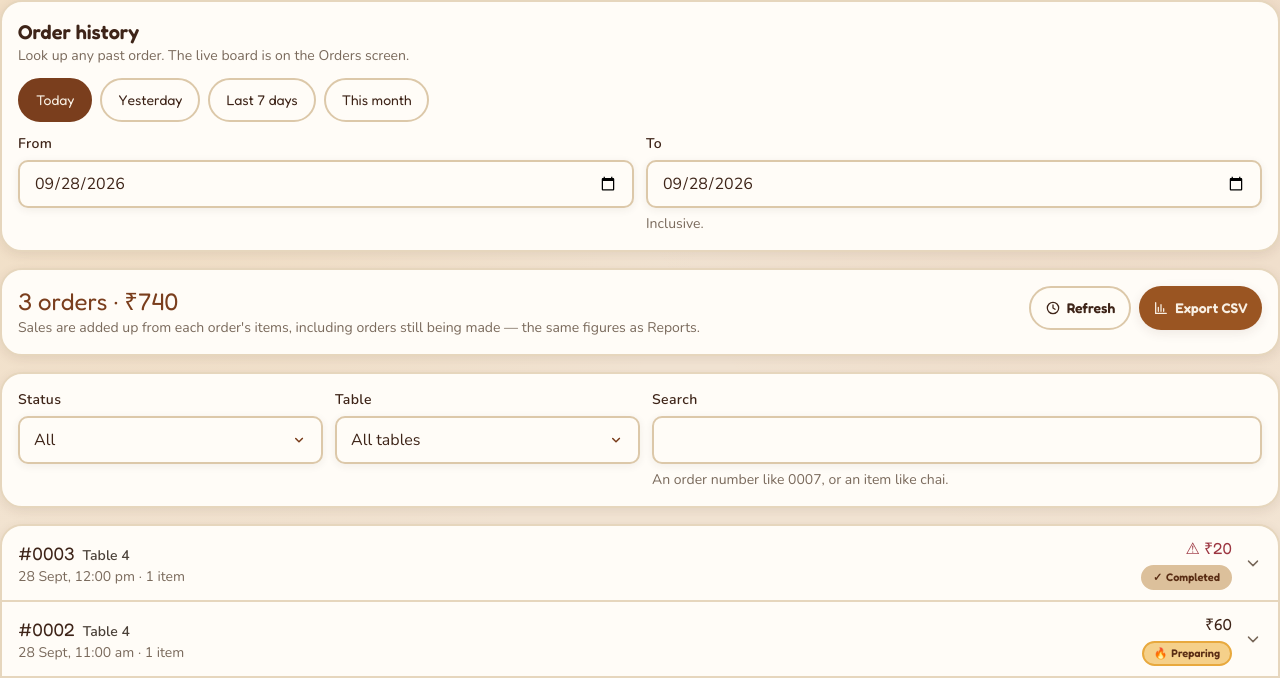
it: order history: ranges › takes a custom range, and refuses one longer than 31 days
Check: the text "3 orders · ₹740" is shown, box left=18, top=287, right=178, bottom=316
Type "2026-09-26" into the date field labelled "From" at (326,184), box left=18, top=160, right=634, bottom=208
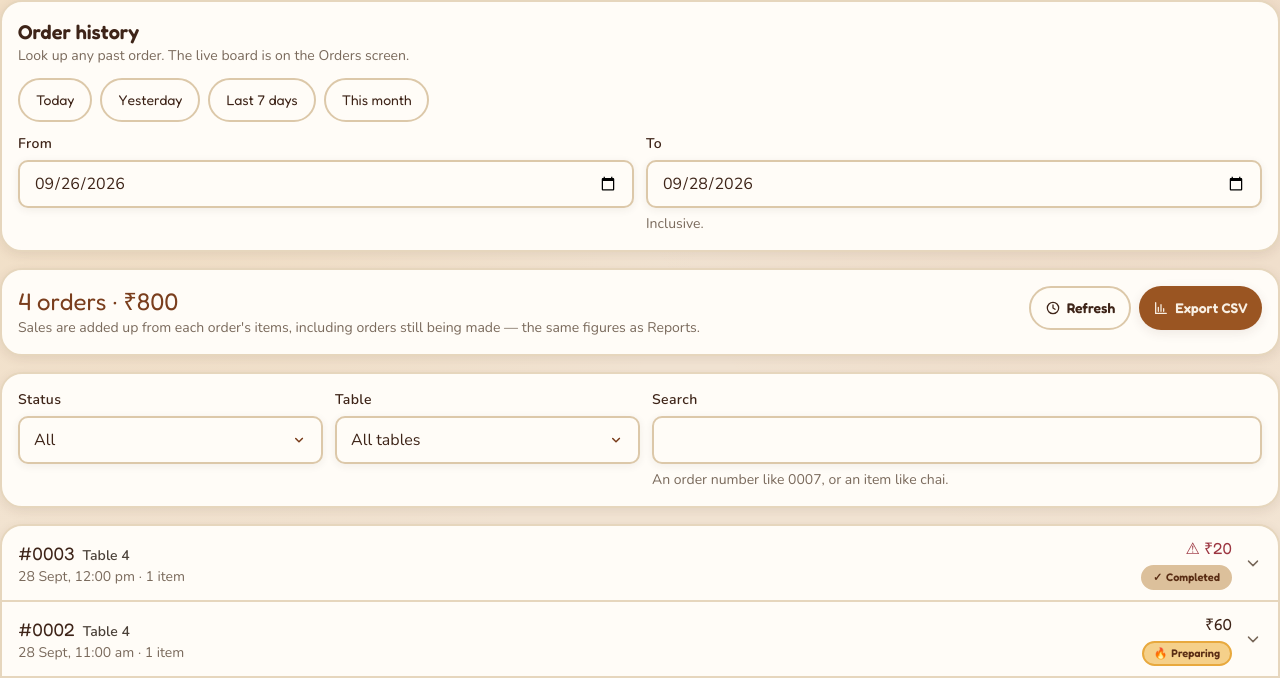
Check: the text "4 orders · ₹800" is shown, box left=18, top=287, right=178, bottom=316
Type "2026-07-01" into the date field labelled "From" at (326,184), box left=18, top=160, right=634, bottom=208
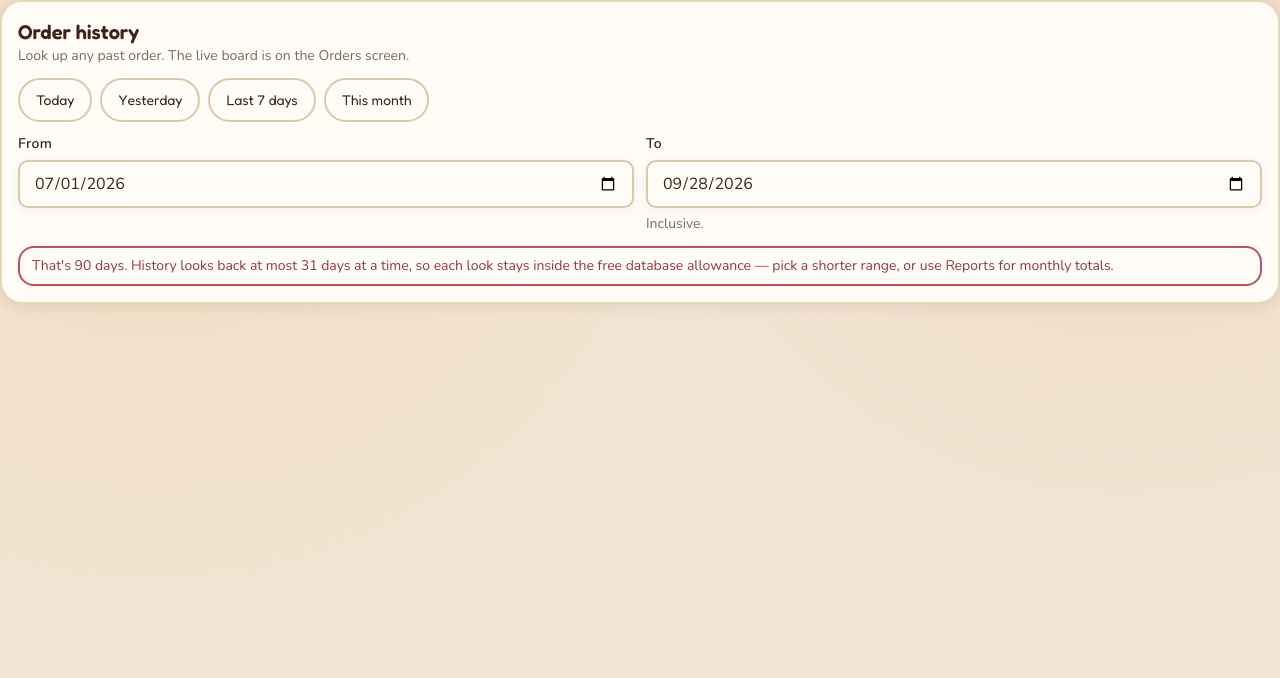
Check: the message shows "at most 31 days", box left=32, top=256, right=1114, bottom=275
